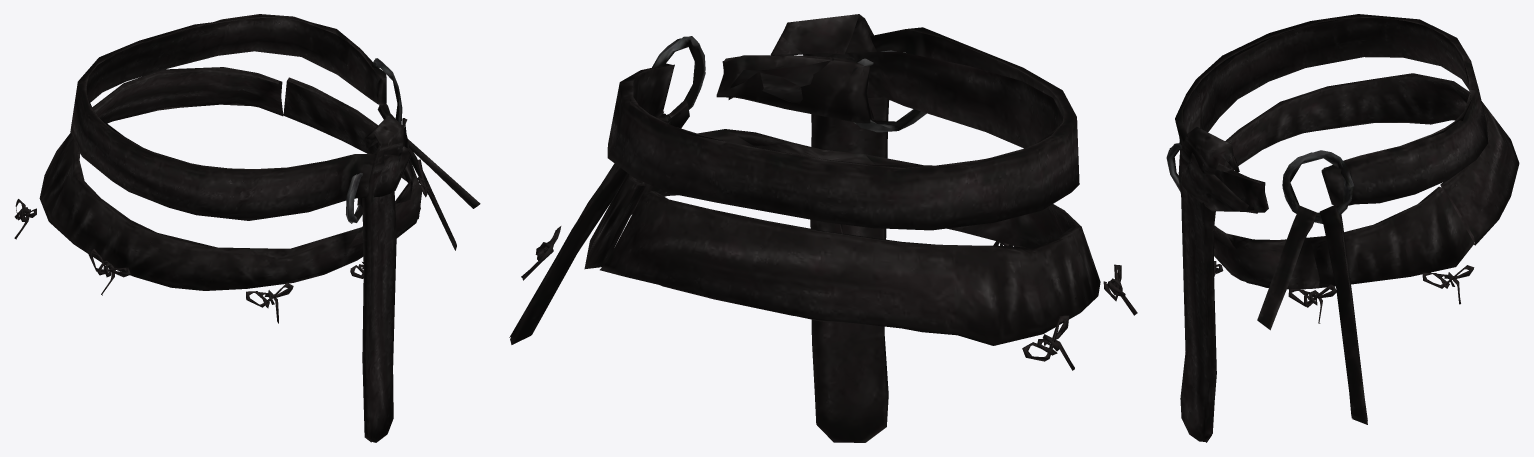
Rendered from damaged_black_belt_drop.glb.
3 views of the same model, side by side, from view 1: azimuth 30°, elevation 25°; view 2: azimuth 150°, elevation 25°; view 3: azimuth 270°, elevation 25° (orthographic). The views are drawn at different scales.
Visible parts, largest first — view 1: damaged_black_belt; view 2: damaged_black_belt; view 3: damaged_black_belt.
Boxes of the visible parts, box(x1,y1,x2,y2) form: damaged_black_belt: box(14, 14, 480, 442); damaged_black_belt: box(509, 14, 1137, 442); damaged_black_belt: box(1166, 14, 1519, 442).
Bounding box in the file's own units: 0.5251 × 0.3858 × 0.3759.
1 material, 1 textured.
